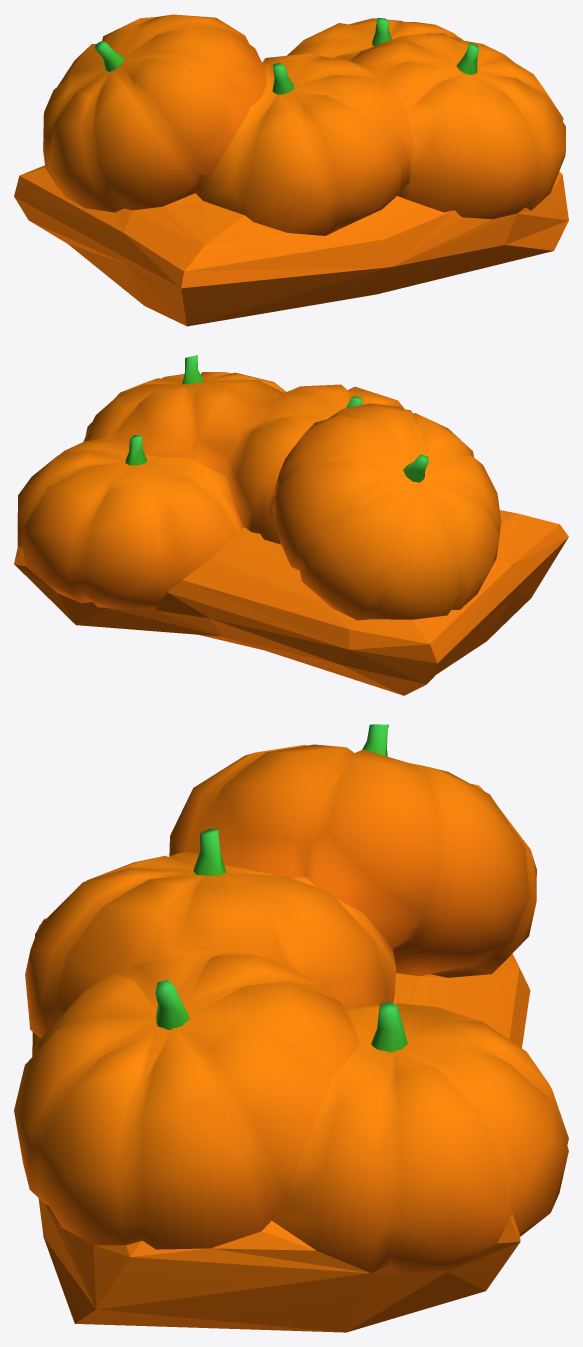
File: pumpkin_pile_lowpoly.fbx
The picture shows the model from 3 angles, top to bottom: view 1: azimuth 30°, elevation 25°; view 2: azimuth 150°, elevation 25°; view 3: azimuth 270°, elevation 25°; orthographic projection. The views are drawn at different scales.
Parts seen in each view (by area): view 1: pumpkin_pile_lowpoly; view 2: pumpkin_pile_lowpoly; view 3: pumpkin_pile_lowpoly.
Boxes of the visible parts, box(x1,y1,x2,y2) form: pumpkin_pile_lowpoly: box(14, 14, 568, 326); pumpkin_pile_lowpoly: box(14, 355, 568, 695); pumpkin_pile_lowpoly: box(14, 724, 568, 1332).
Bounding box in the file's own units: 418 × 211 × 295.
